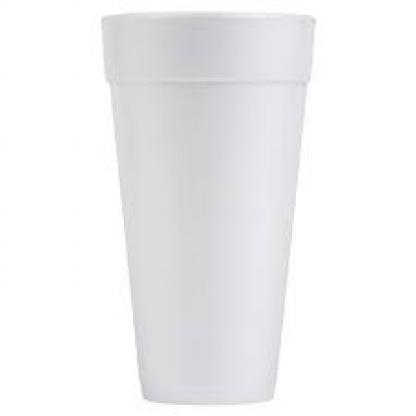paper: (96, 13, 314, 399)
